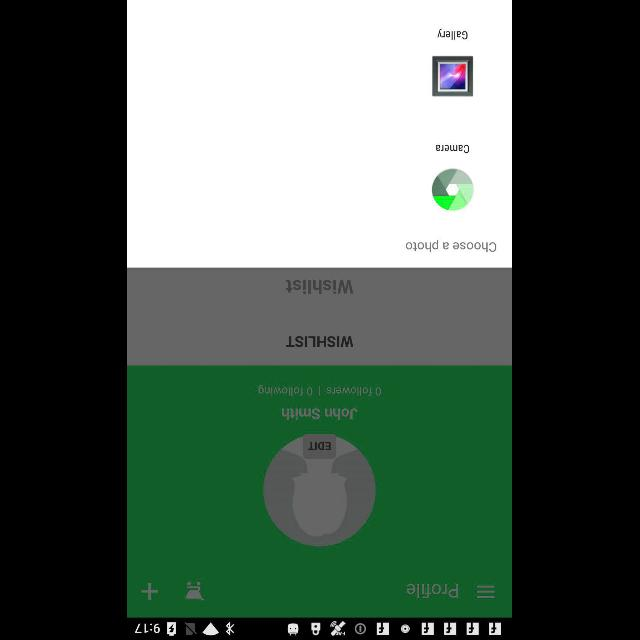icon: (263, 434, 377, 546), (187, 582, 206, 600), (142, 582, 160, 600), (478, 584, 496, 598)
image: (432, 56, 474, 98), (432, 169, 474, 211)
panel: (128, 1, 512, 268)
text: (407, 240, 498, 252), (286, 280, 354, 294), (283, 408, 359, 420), (286, 335, 354, 347), (407, 584, 459, 598), (259, 384, 313, 396), (328, 387, 382, 398), (438, 28, 468, 40), (436, 144, 469, 154)
uppertaskbar: (128, 617, 512, 639)
